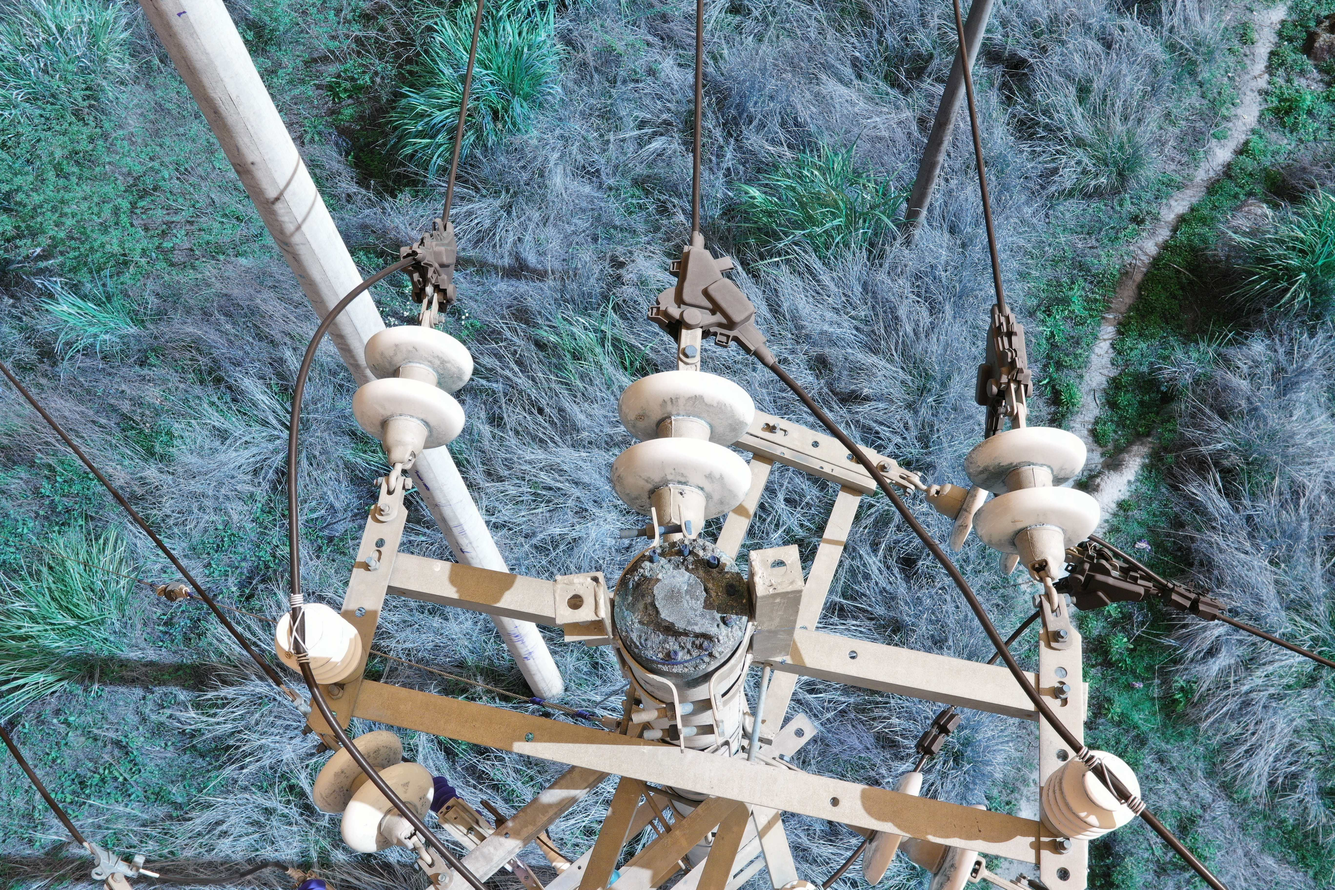severe_soiling_no_discharge_whole: (610, 370, 762, 535), (962, 425, 1108, 584), (352, 324, 480, 474), (844, 771, 989, 890), (310, 728, 436, 858), (922, 471, 1023, 577), (1037, 747, 1144, 844)
